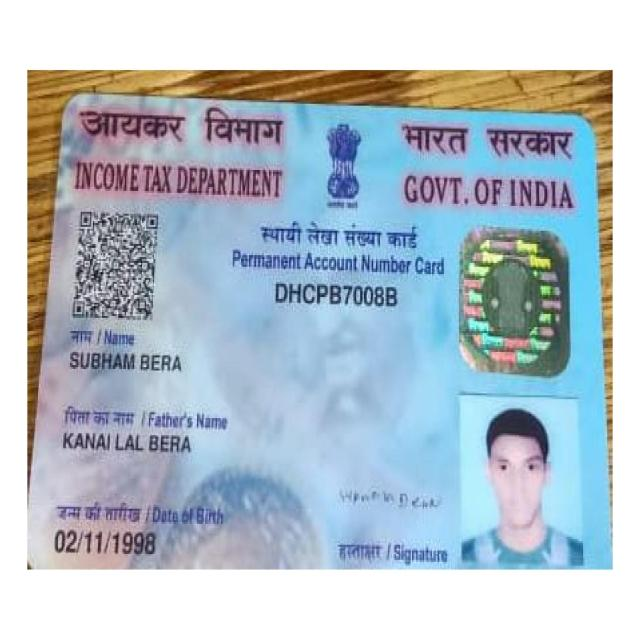pan_card: (40, 96, 603, 565)
